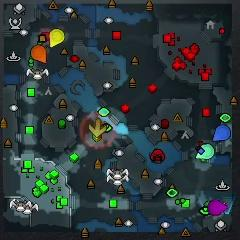p1: (213, 124, 231, 141)
p2: (195, 144, 215, 159)
p3: (208, 201, 228, 215)
p4: (49, 29, 65, 48)
p5: (31, 46, 47, 63)
x2: (89, 118, 106, 136)
